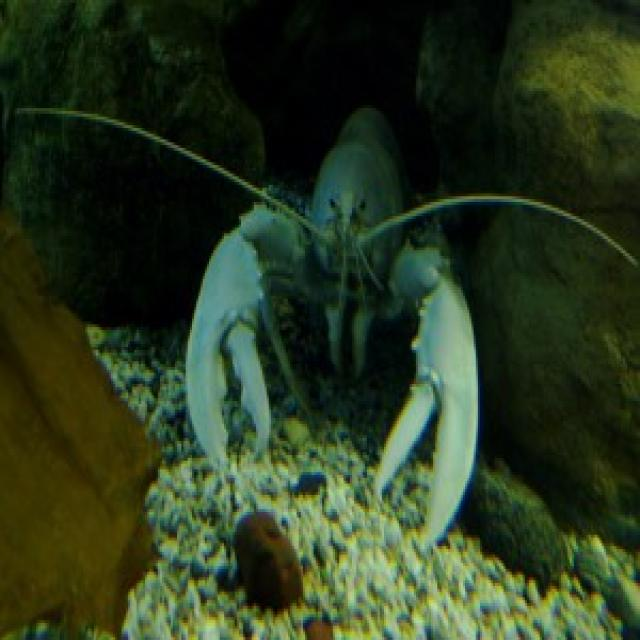lobsters: (89, 78, 636, 594)
